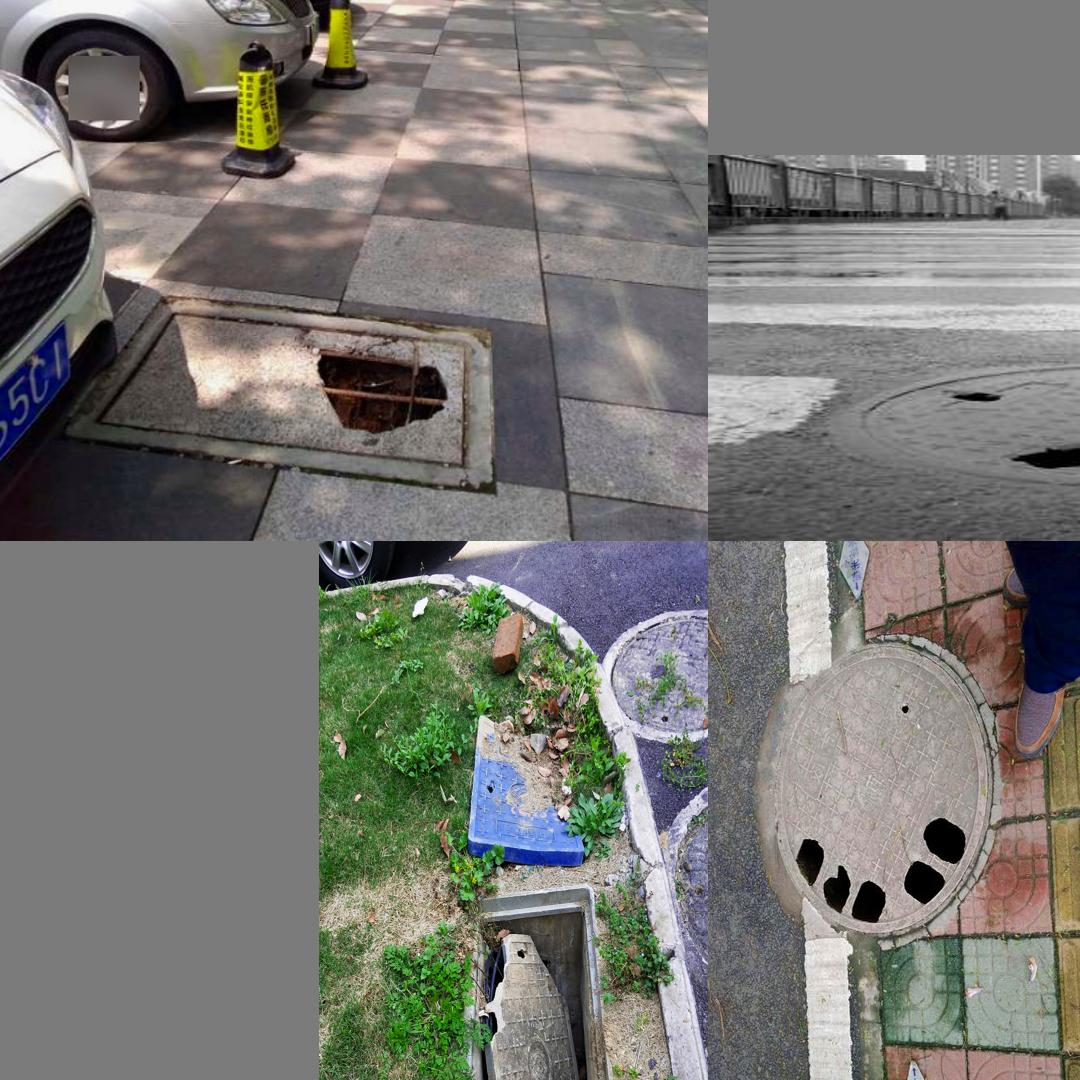broke: (63, 296, 493, 490), (751, 628, 1001, 953), (450, 880, 624, 1080), (777, 373, 1080, 480)
